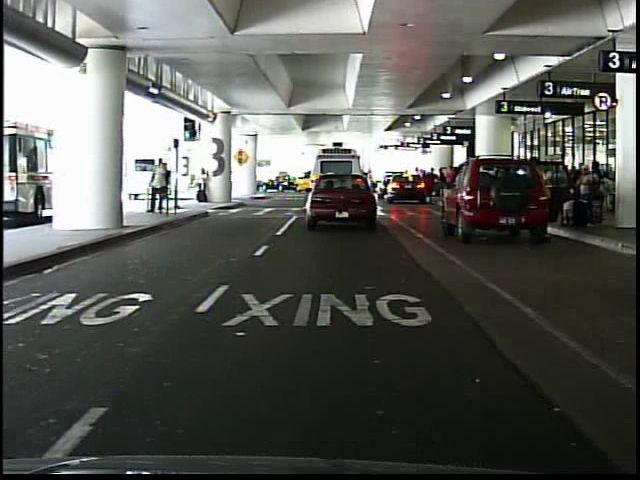person: (528, 154, 557, 234), (148, 157, 168, 216), (162, 162, 178, 214), (193, 166, 213, 206), (444, 163, 461, 201)
